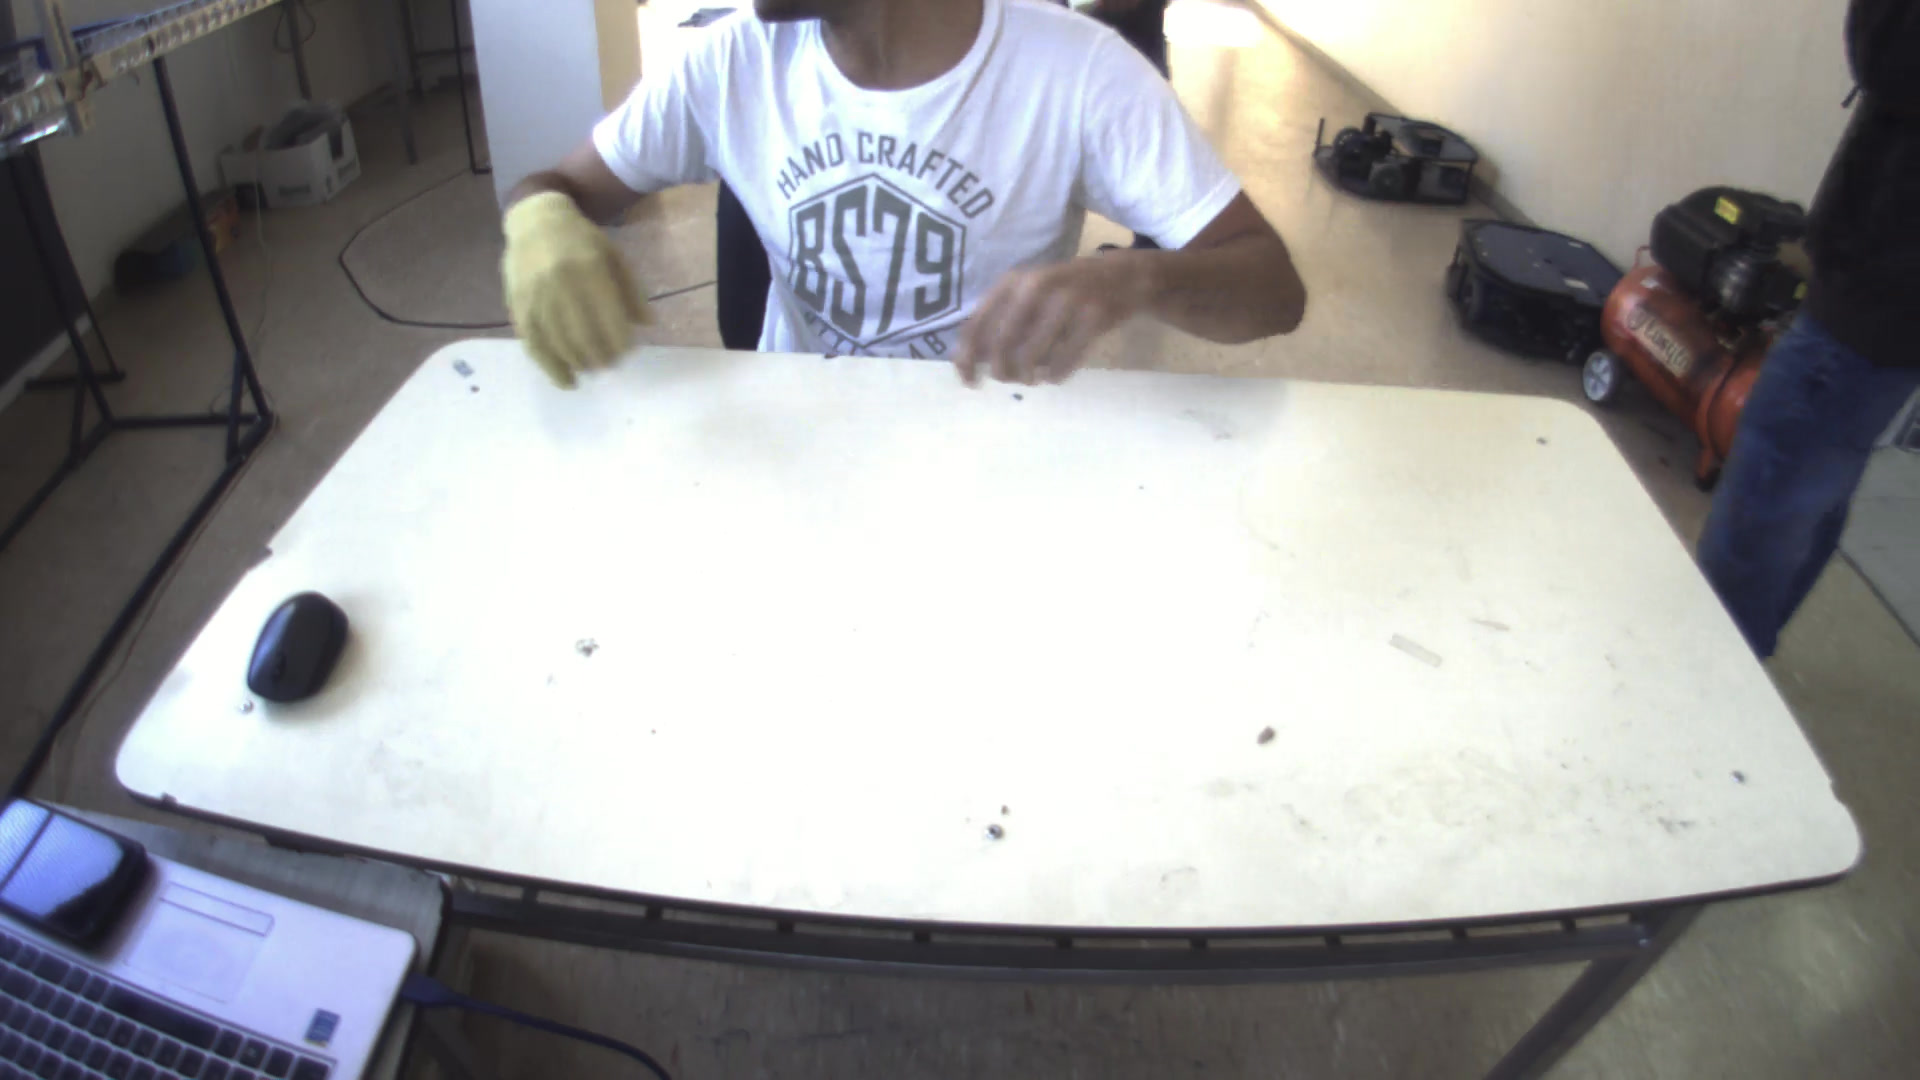hand: (487, 189, 661, 388), (936, 243, 1135, 386)
